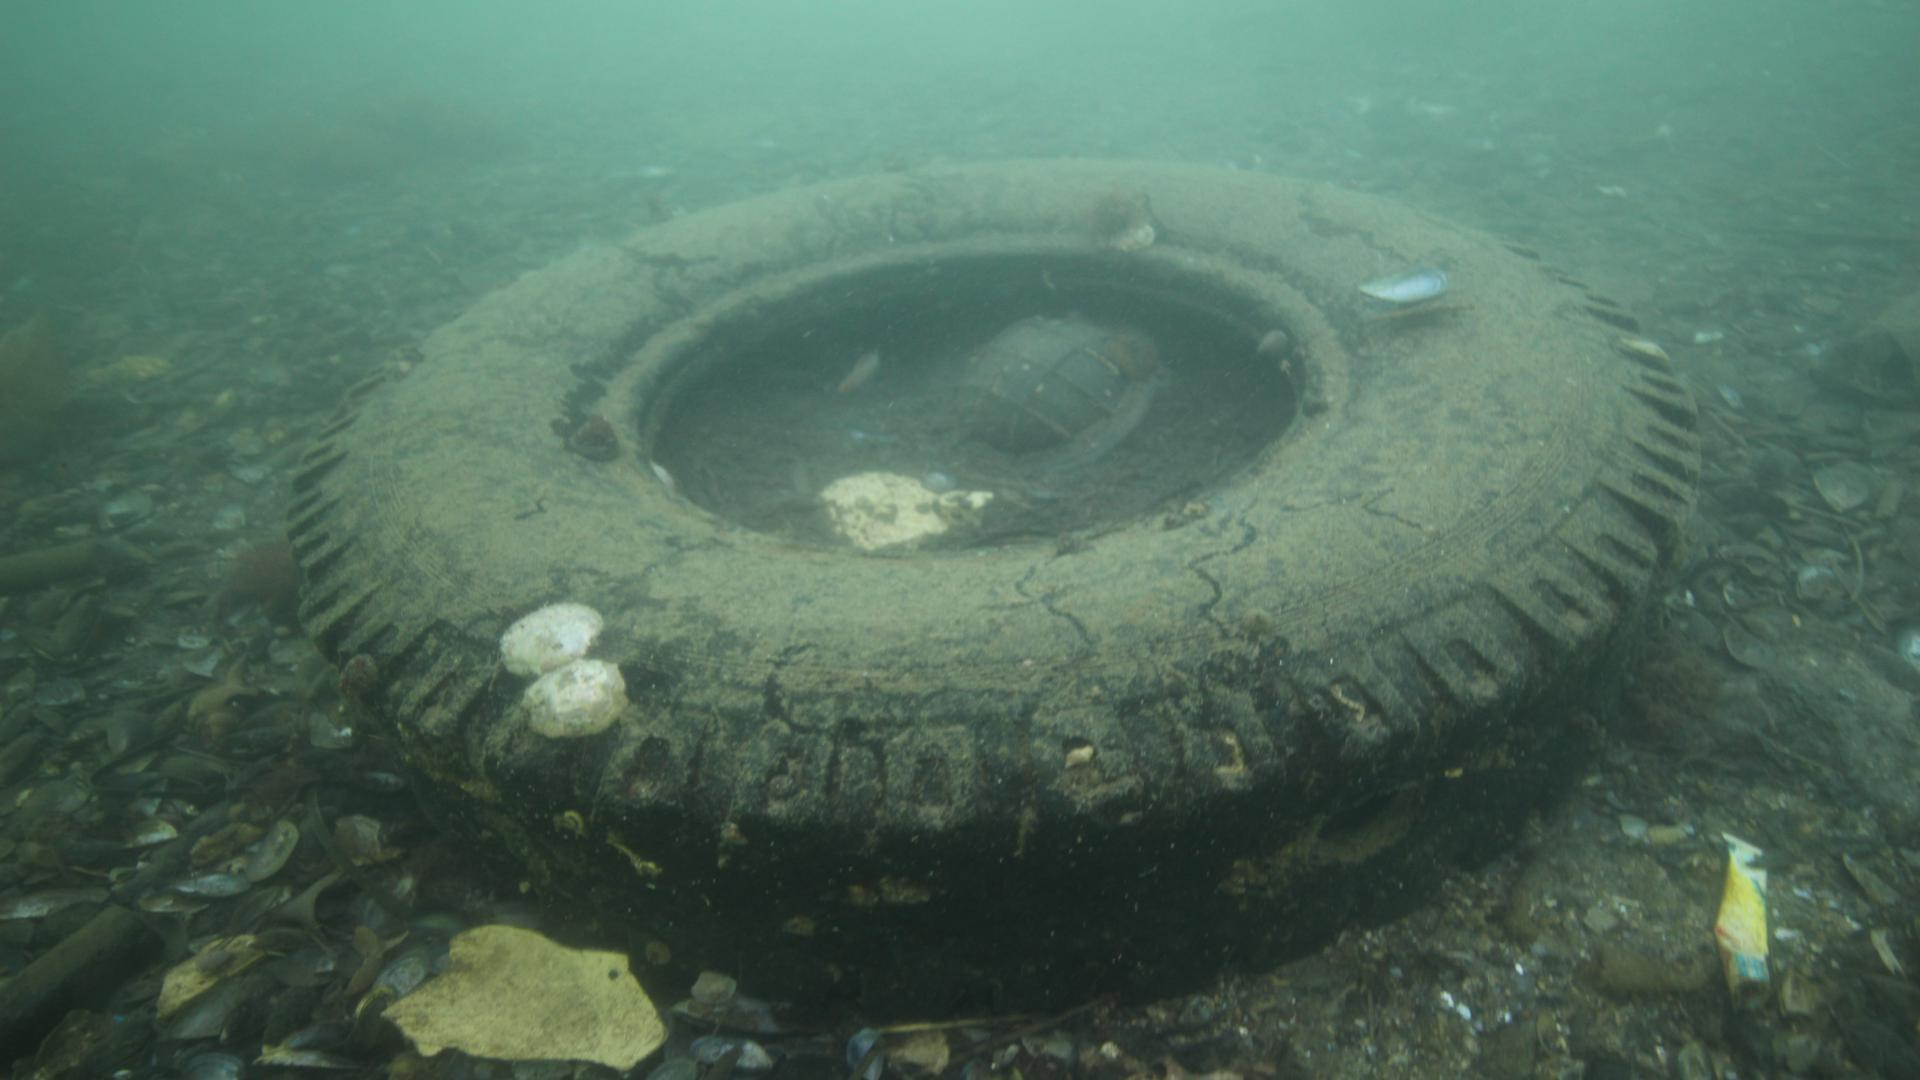tire: (280, 156, 1704, 1000)
